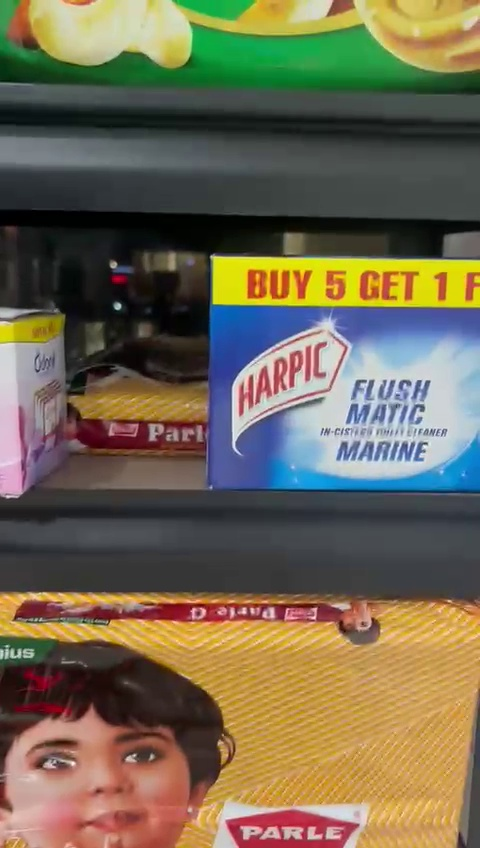Harpic: (211, 256, 480, 486)
